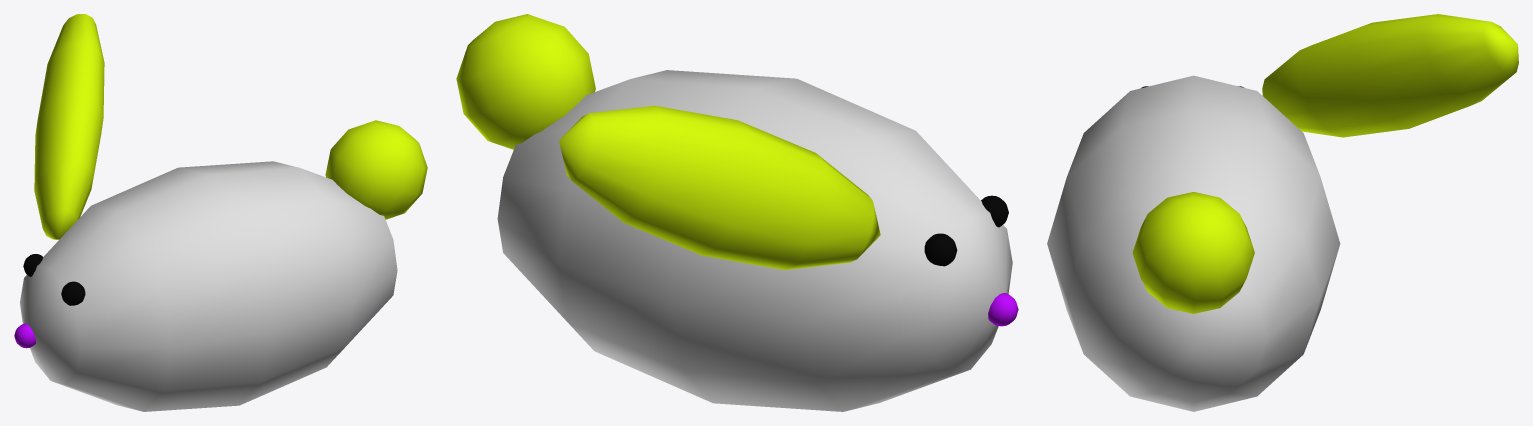
File: Lapin.FBX
The picture shows the model from 3 angles, left to right: view 1: azimuth 30°, elevation 25°; view 2: azimuth 150°, elevation 25°; view 3: azimuth 270°, elevation 25°; orthographic projection. The views are drawn at different scales.
Visible parts, largest first — view 1: Sphère001; view 2: Sphère001; view 3: Sphère001.
Part boxes in pixels (x1,y1,x2,y2): Sphère001: (14, 14, 427, 411); Sphère001: (456, 14, 1018, 411); Sphère001: (1047, 14, 1518, 411).
Bounding box in the file's own units: 104 × 88.15 × 72.48.
